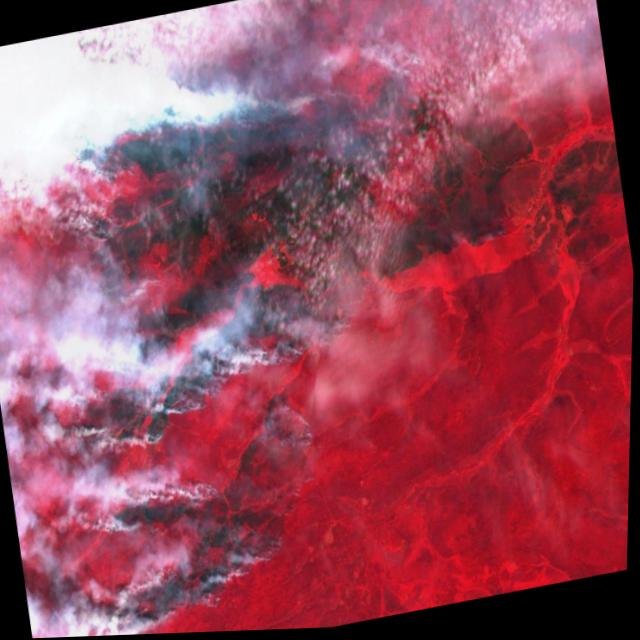fire: (20, 0, 508, 465), (87, 450, 309, 637)
